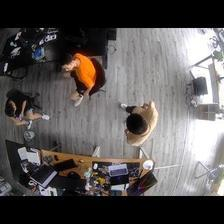normal: (58, 52, 95, 108), (115, 99, 157, 146), (7, 93, 52, 130)
